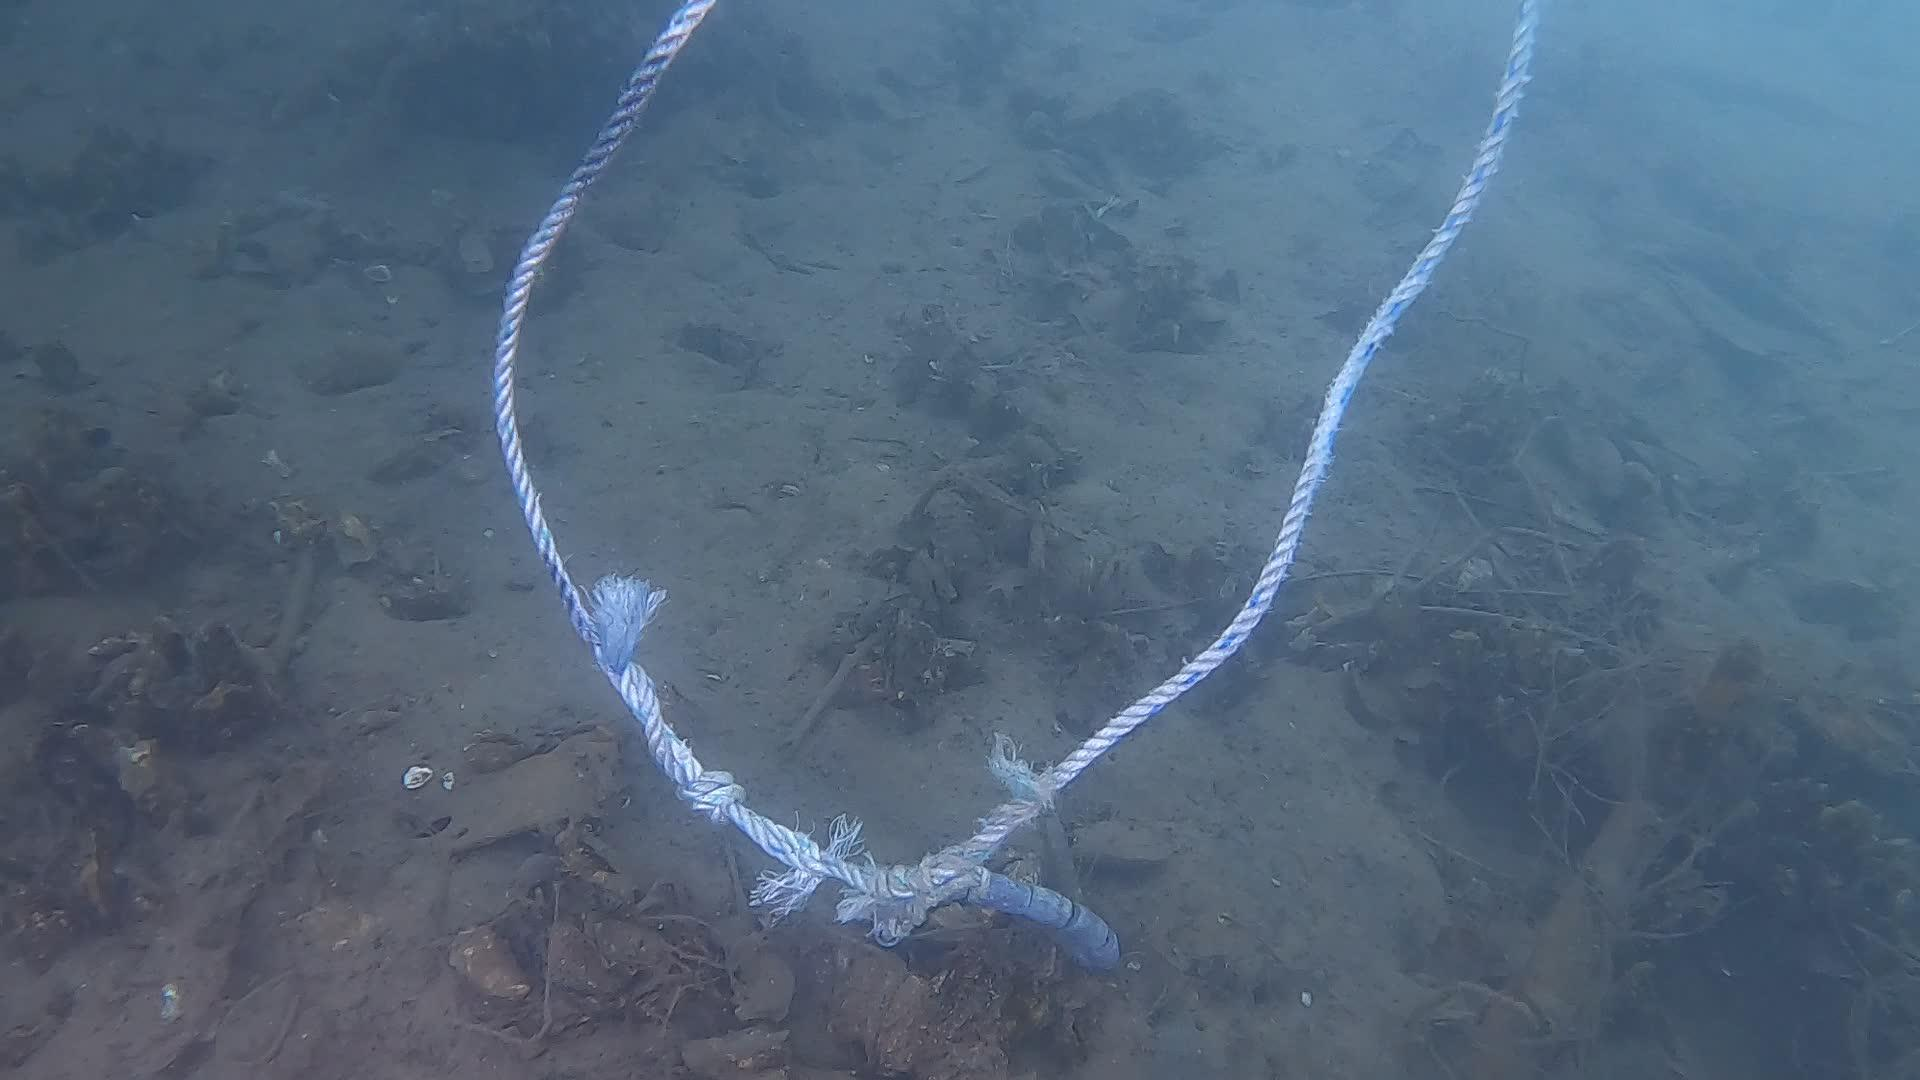bundle of ropes: (492, 0, 1542, 899)
